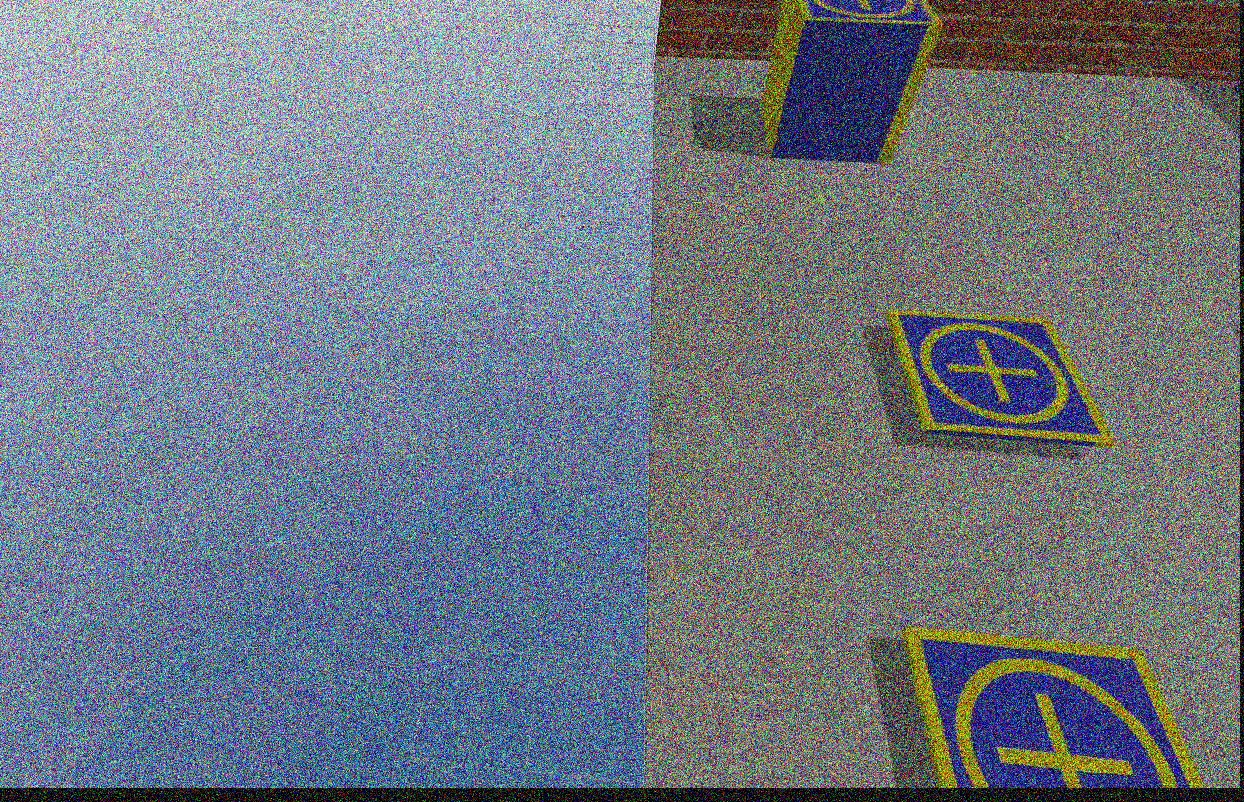small_base: (907, 625, 1202, 788), (887, 308, 1118, 447), (799, 1, 944, 30)
